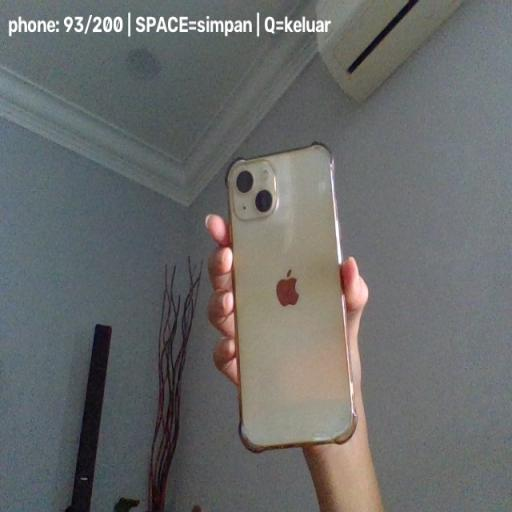Phone: (224, 141, 358, 454)
